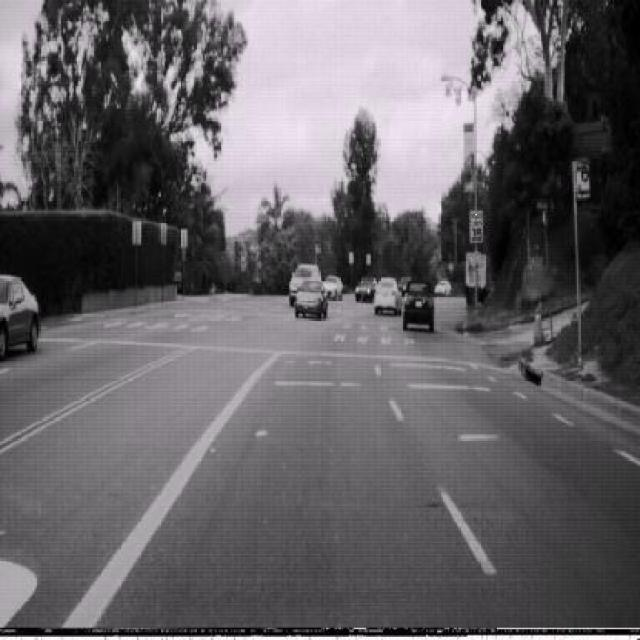speedLimit35: (469, 209, 485, 244)
